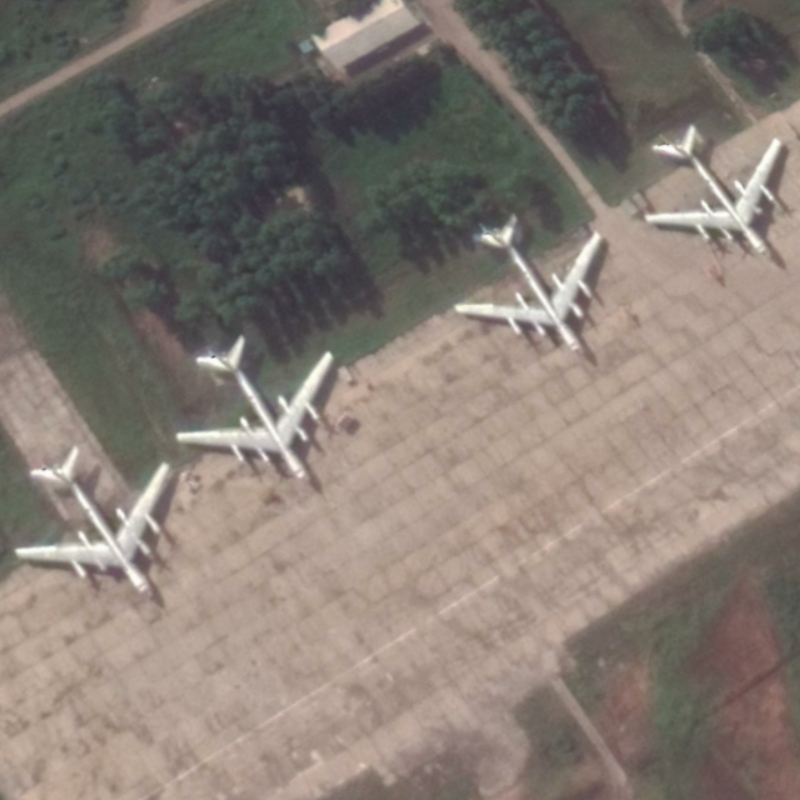A17: (11, 443, 173, 604), (173, 332, 337, 486), (451, 210, 605, 361), (640, 121, 785, 265)
